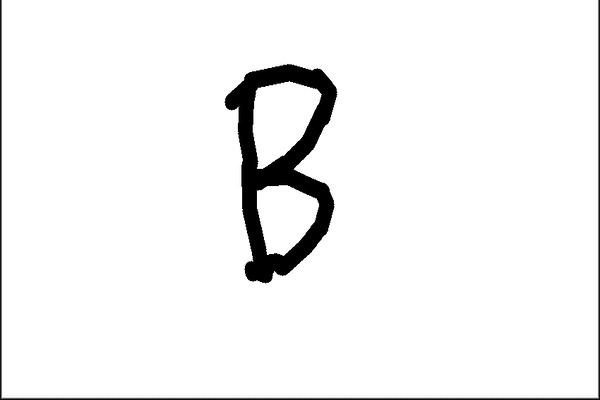B: (216, 56, 343, 288)
